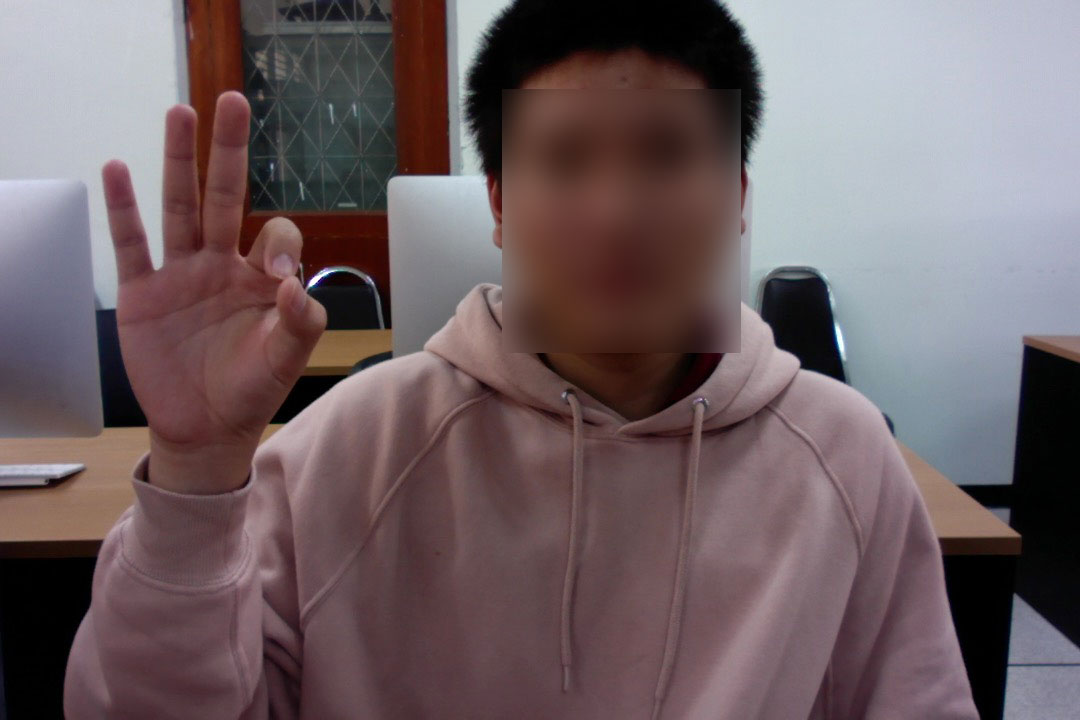for: (71, 66, 353, 499)
